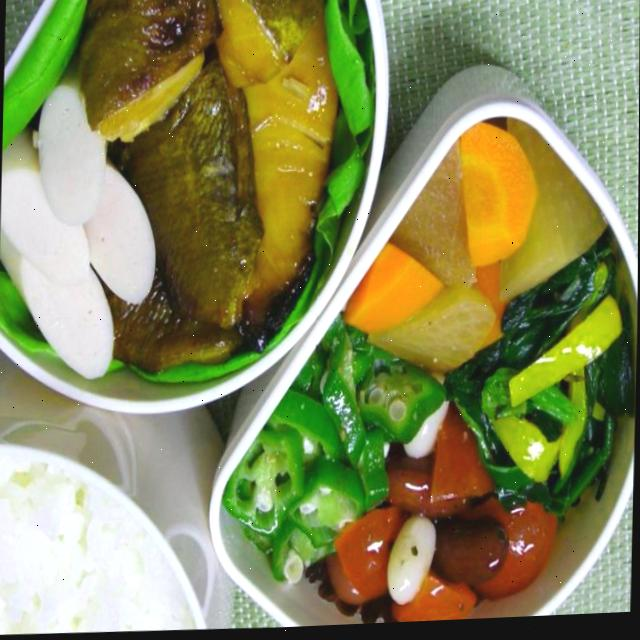熟制海鲜: (60, 0, 343, 377)
